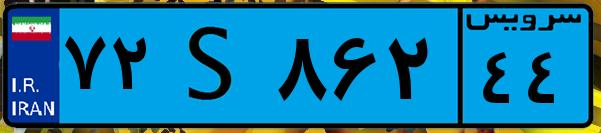2: (385, 28, 445, 110), (110, 28, 158, 98)
4: (475, 38, 525, 113), (525, 38, 570, 115)
6: (330, 28, 385, 110)
7: (57, 26, 110, 100)
8: (270, 28, 330, 110)
S: (158, 12, 270, 120)
